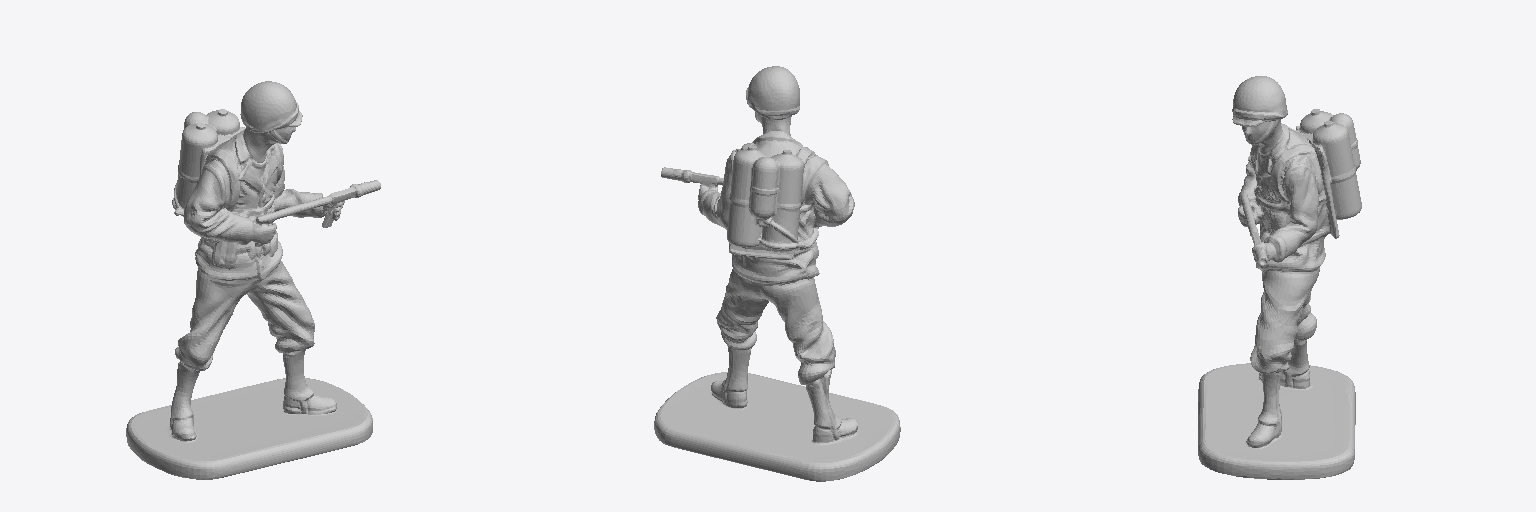
Rendered from toysoldier.obj.
3 views of the same model, side by side, from view 1: azimuth 30°, elevation 25°; view 2: azimuth 150°, elevation 25°; view 3: azimuth 270°, elevation 25° (orthographic).
Parts seen in each view (by area): view 1: toysoldier; view 2: toysoldier; view 3: toysoldier.
Boxes of the visible parts, x1=… form: toysoldier: x1=126, y1=81, x2=380, y2=479; toysoldier: x1=654, y1=66, x2=900, y2=481; toysoldier: x1=1198, y1=76, x2=1361, y2=479.
Bounding box in the file's own units: 0.5778 × 0.8648 × 0.3586.